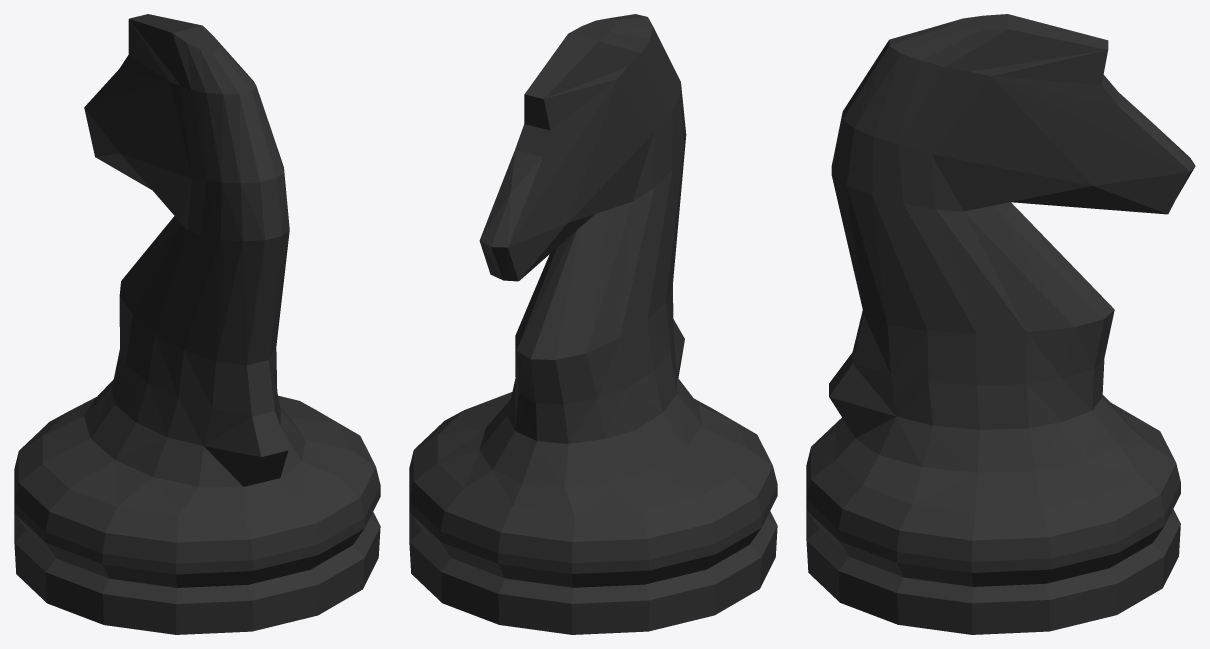
Rendered from horse.obj.
The picture shows the model from 3 angles, left to right: view 1: azimuth 30°, elevation 25°; view 2: azimuth 150°, elevation 25°; view 3: azimuth 270°, elevation 25°; orthographic projection. The views are drawn at different scales.
Visible parts, largest first — view 1: pieces; view 2: pieces; view 3: pieces.
Part boxes in pixels (box(x1,y1,x2,y2)): pieces: box(14, 14, 380, 634); pieces: box(409, 14, 777, 634); pieces: box(806, 14, 1195, 634).
Bounding box in the file's own units: 0.9803 × 1.53 × 1.01.
Materials: 1 (1 with a texture image).
